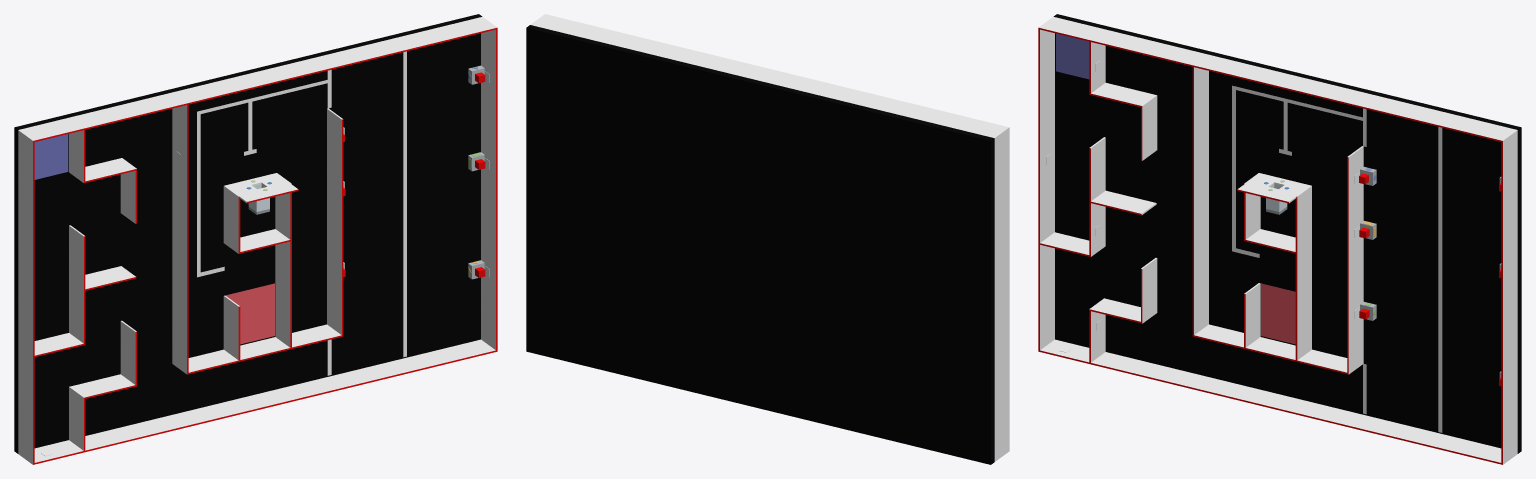
File: Part Studio 1.gltf
3 renders of one model, left to right at view 1: azimuth 30°, elevation 25°; view 2: azimuth 150°, elevation 25°; view 3: azimuth 330°, elevation 25°, orthographic.
Visible parts, largest first — view 1: Part 1, Part 40, Part 5, Part 3, Part 6, Part 41, Part 4; view 2: Part 1, Part 40; view 3: Part 1, Part 40, Part 5, Part 3, Part 4, Part 6, Part 41.
Part boxes in pixels (x1,y1,x2,y2): Part 1: (14, 14, 482, 453); Part 40: (18, 17, 497, 464); Part 5: (226, 283, 274, 344); Part 3: (197, 70, 331, 277); Part 6: (34, 134, 68, 179); Part 41: (225, 173, 298, 203); Part 4: (403, 51, 406, 357); Part 1: (526, 25, 994, 464); Part 40: (530, 14, 1009, 461); Part 1: (1053, 14, 1521, 453); Part 40: (1038, 17, 1517, 464); Part 5: (1261, 283, 1295, 344); Part 3: (1232, 85, 1366, 257); Part 4: (1438, 127, 1442, 432); Part 6: (1056, 33, 1089, 79); Part 41: (1237, 173, 1310, 203).
Bounding box in the file's own units: 3.6 × 2.4 × 0.35.
